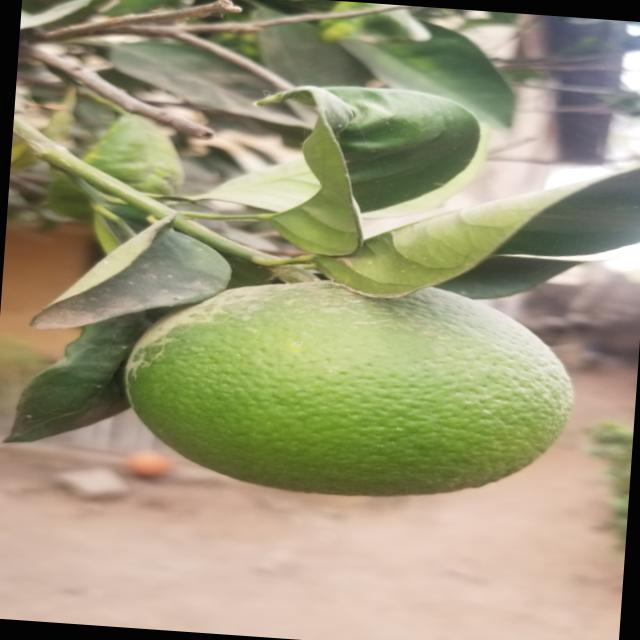Unripe: (102, 264, 597, 528)
